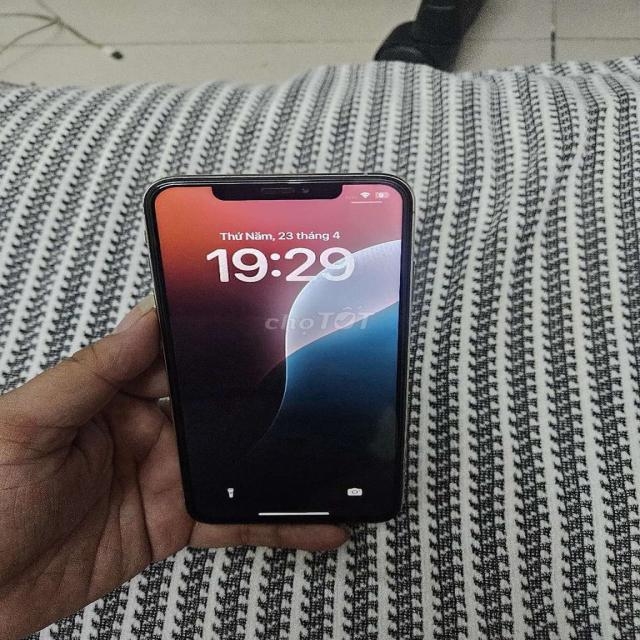gen_x_xs: (127, 164, 437, 543)
